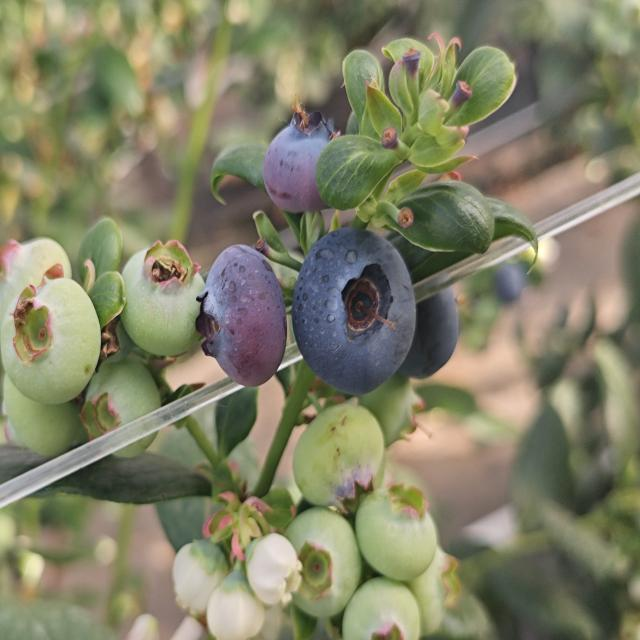ripe: (292, 221, 419, 396), (210, 247, 286, 382), (265, 116, 347, 207), (414, 282, 466, 376), (490, 258, 528, 309)
